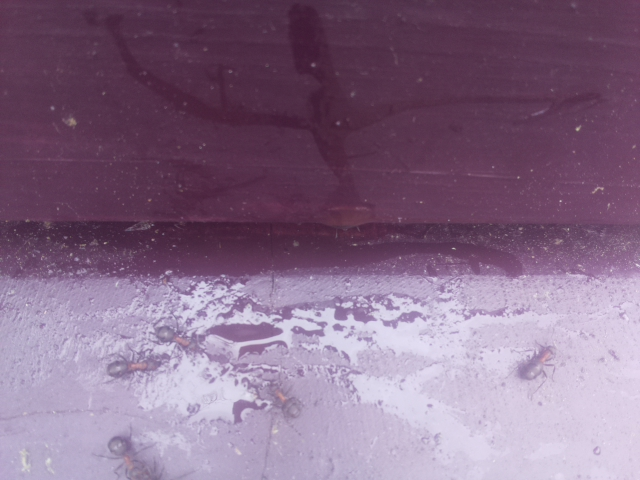ant: (97, 431, 159, 480), (515, 335, 565, 389), (259, 377, 310, 425), (107, 353, 161, 385), (149, 321, 200, 351)
